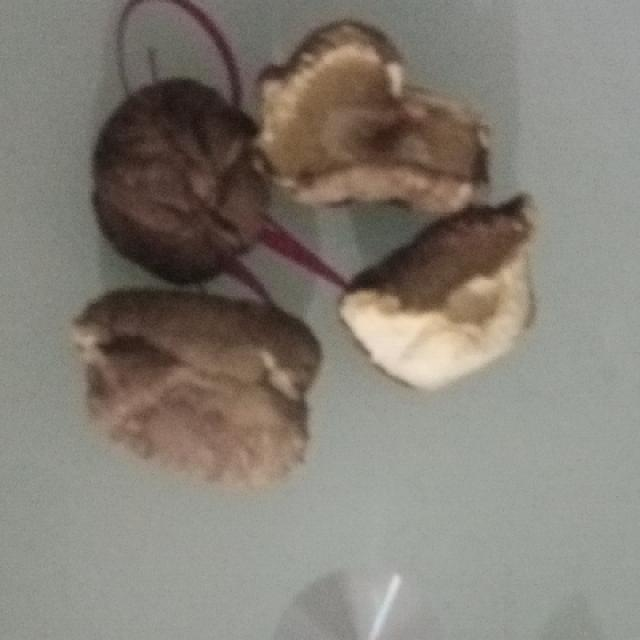Lentinus edodes: (74, 287, 323, 483), (266, 22, 493, 211), (347, 195, 540, 387), (95, 76, 266, 283)
